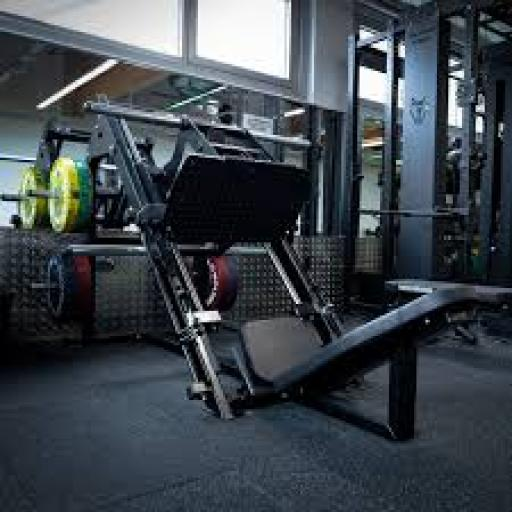Leg Press: (24, 128, 501, 395)
